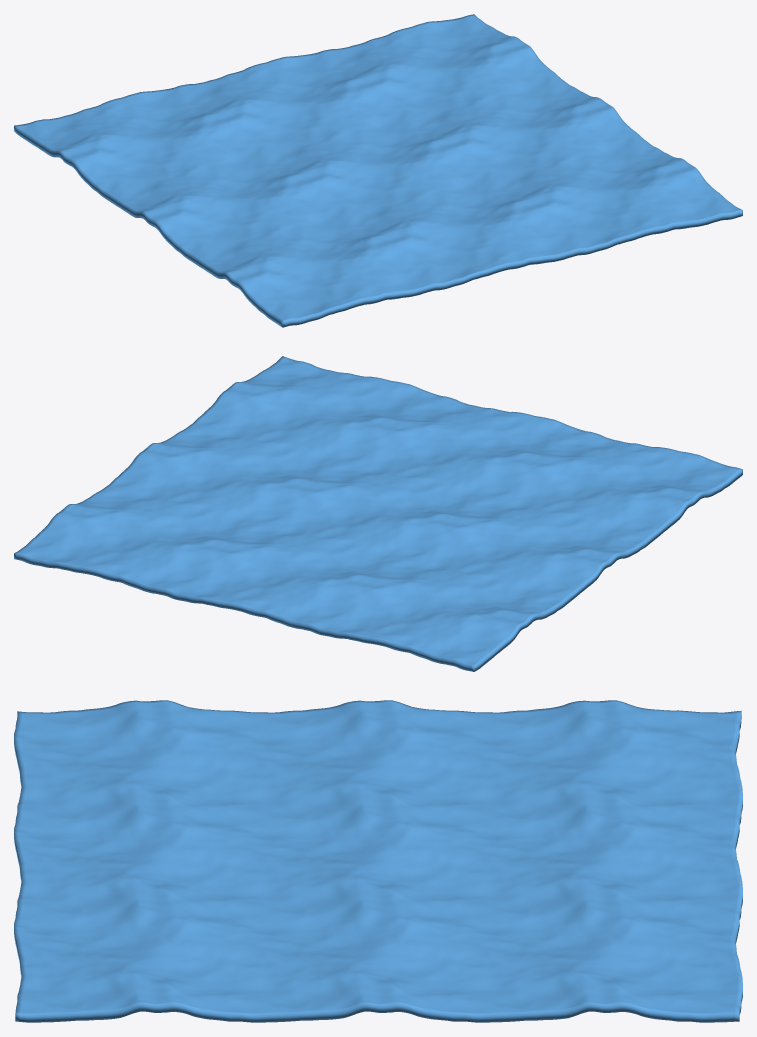
File: sea.glb
3 renders of one model, top to bottom at view 1: azimuth 30°, elevation 25°; view 2: azimuth 150°, elevation 25°; view 3: azimuth 270°, elevation 25°, orthographic. The views are drawn at different scales.
Parts seen in each view (by area): view 1: Plane; view 2: Plane; view 3: Plane.
Boxes of the visible parts, <box> form: Plane: <box>14,14,742,327</box>; Plane: <box>14,356,742,671</box>; Plane: <box>14,700,742,1022</box>.
Size of the model in its own units: 48.04 by 1.56 by 48.66.
